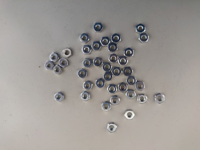nut: (136, 23, 146, 34), (139, 33, 150, 43), (111, 34, 122, 44), (124, 48, 135, 58), (125, 110, 136, 120), (107, 123, 118, 133), (101, 102, 112, 112), (110, 96, 121, 106), (107, 84, 118, 94), (123, 67, 134, 77), (119, 56, 129, 67), (109, 54, 120, 64), (100, 37, 111, 47), (80, 33, 90, 44), (62, 48, 73, 58), (155, 94, 165, 104), (94, 22, 104, 32), (138, 94, 148, 104), (136, 82, 146, 92), (118, 83, 128, 93), (126, 90, 136, 100), (108, 43, 118, 53), (53, 65, 63, 75), (44, 61, 54, 71), (49, 52, 59, 62), (58, 58, 68, 68), (81, 91, 91, 101), (78, 69, 88, 79), (83, 81, 93, 91), (96, 79, 106, 89), (83, 58, 93, 68), (92, 42, 102, 52), (93, 57, 103, 67), (102, 63, 112, 73), (113, 67, 123, 77), (104, 71, 114, 81), (54, 93, 64, 102), (82, 45, 92, 54), (127, 78, 136, 85)
